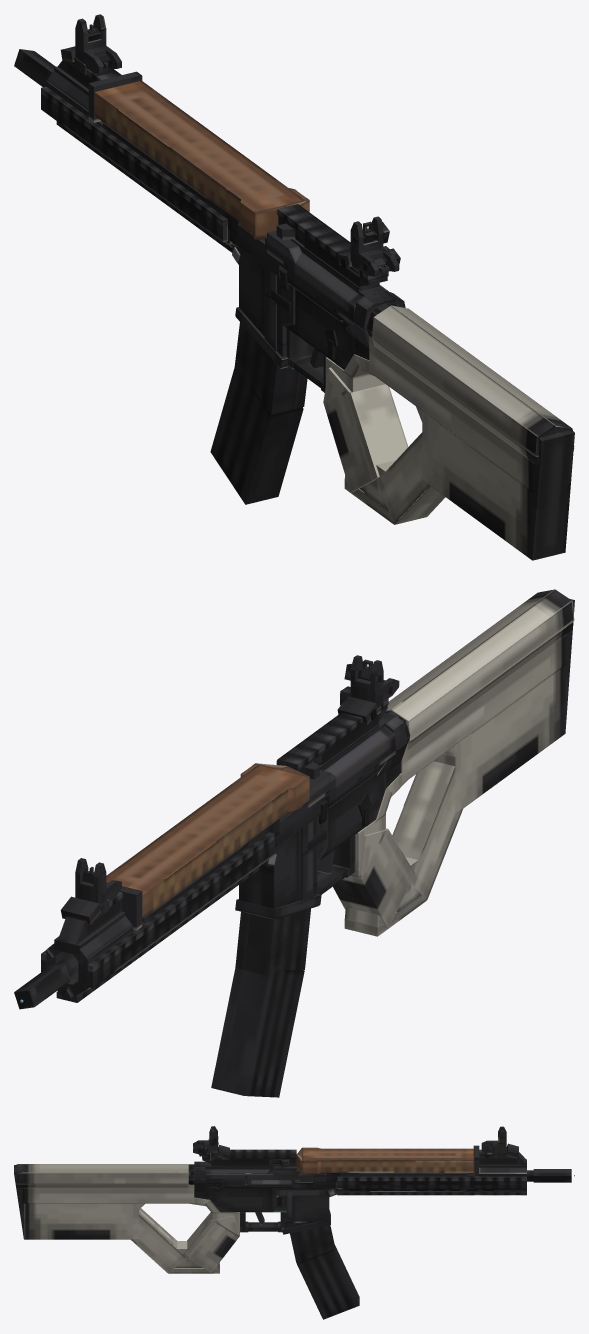
3 renders of one model, top to bottom at view 1: azimuth 30°, elevation 25°; view 2: azimuth 150°, elevation 25°; view 3: azimuth 270°, elevation 25°, orthographic. The views are drawn at different scales.
Parts seen in each view (by area): view 1: stock, weapon, magazine_p90, magazine_m4, rearsight, frontsight; view 2: stock, weapon, magazine_m4, magazine_p90, rearsight, frontsight; view 3: stock, weapon, magazine_p90, magazine_m4, rearsight, frontsight, action.
Part boxes in pixels (x1,y1,x2,y2): stock: (323,305,574,560); weapon: (14,49,405,392); magazine_p90: (88,71,309,239); magazine_m4: (210,322,307,504); rearsight: (337,216,400,276); frontsight: (60,14,121,74); stock: (333,589,574,936); weapon: (14,698,410,1009); magazine_m4: (211,908,310,1097); magazine_p90: (106,763,309,930); rearsight: (337,655,399,724); frontsight: (60,858,121,925); stock: (14,1164,239,1273); weapon: (188,1149,571,1234); magazine_p90: (296,1145,479,1176); magazine_m4: (290,1225,359,1319); rearsight: (193,1126,229,1160); frontsight: (481,1126,518,1158); action: (245,1179,313,1187).
Size of the model in its own units: 0.3908 by 2.26 by 6.17.
